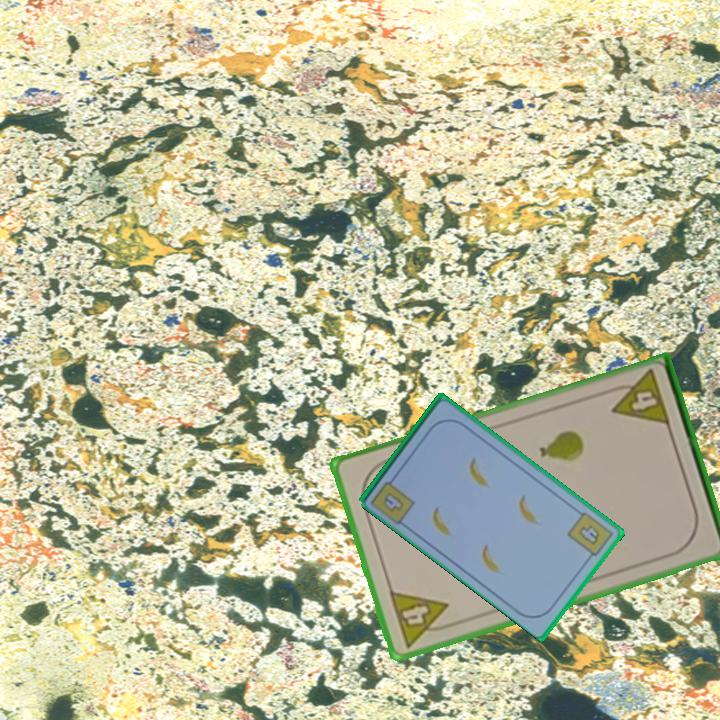4b: (564, 508, 616, 564), (380, 488, 407, 515)
4p: (385, 587, 457, 651), (604, 366, 673, 429)
